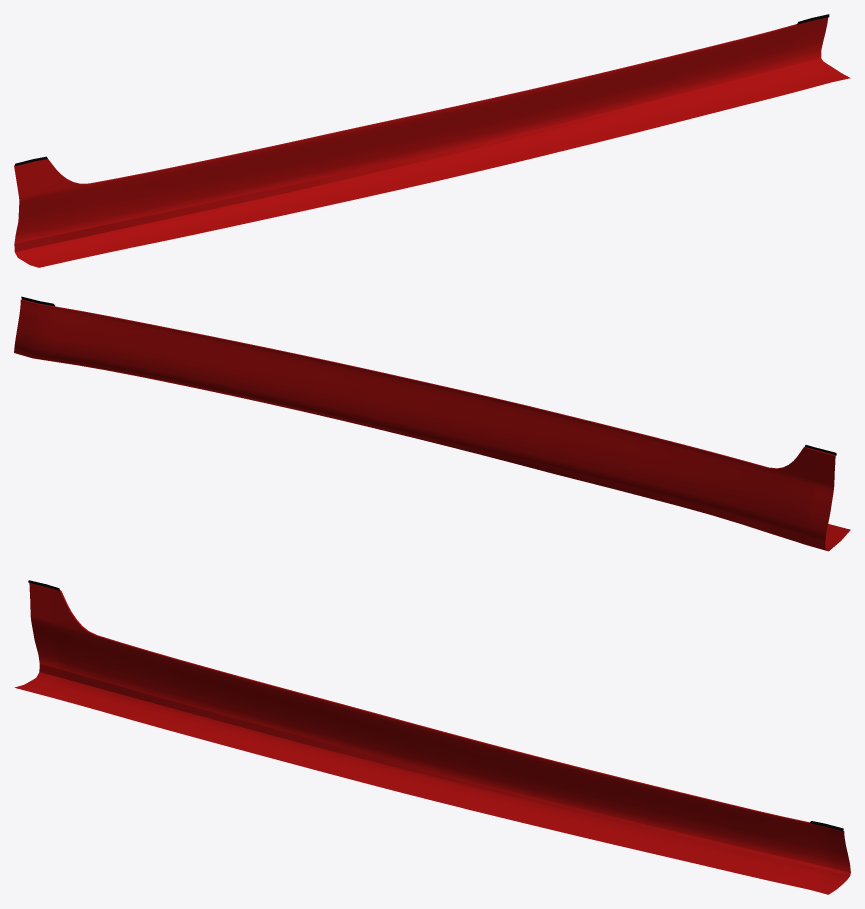
3 renders of one model, top to bottom at view 1: azimuth 30°, elevation 25°; view 2: azimuth 150°, elevation 25°; view 3: azimuth 330°, elevation 25°, orthographic.
Parts seen in each view (by area): view 1: Y175_18_206A_L_1_DaS_Y175_18_206A_L, Y175_18_206A_L_1_DaS_Y175_18_206A_L_E; view 2: Y175_18_206A_L_1_DaS_Y175_18_206A_L, Y175_18_206A_L_1_DaS_Y175_18_206A_L_E; view 3: Y175_18_206A_L_1_DaS_Y175_18_206A_L, Y175_18_206A_L_1_DaS_Y175_18_206A_L_E.
Boxes of the visible parts, bbox=[...] form: Y175_18_206A_L_1_DaS_Y175_18_206A_L: bbox=[14, 17, 850, 267]; Y175_18_206A_L_1_DaS_Y175_18_206A_L_E: bbox=[14, 24, 822, 251]; Y175_18_206A_L_1_DaS_Y175_18_206A_L: bbox=[14, 300, 850, 551]; Y175_18_206A_L_1_DaS_Y175_18_206A_L_E: bbox=[14, 299, 836, 550]; Y175_18_206A_L_1_DaS_Y175_18_206A_L: bbox=[14, 583, 850, 894]; Y175_18_206A_L_1_DaS_Y175_18_206A_L_E: bbox=[39, 590, 850, 876].
Bounding box in the file's own units: 202 × 23.39 × 14.15.
